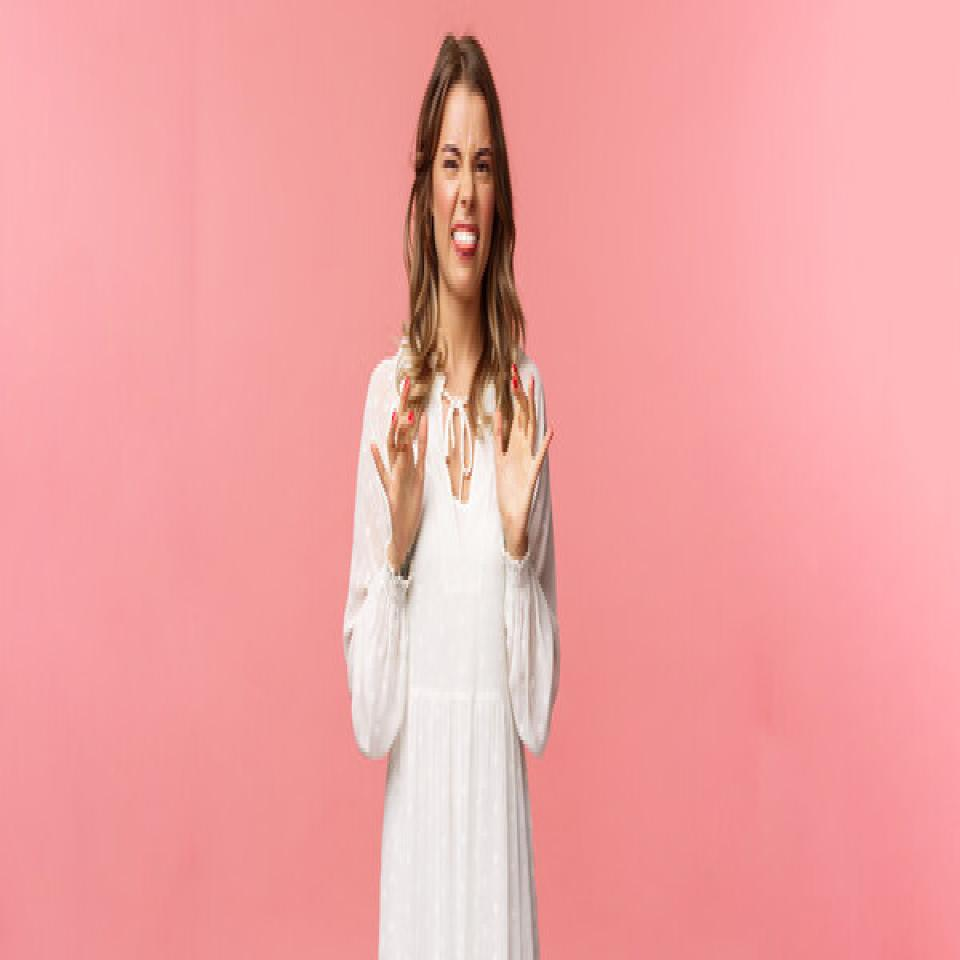Disgust: (433, 98, 505, 298)
